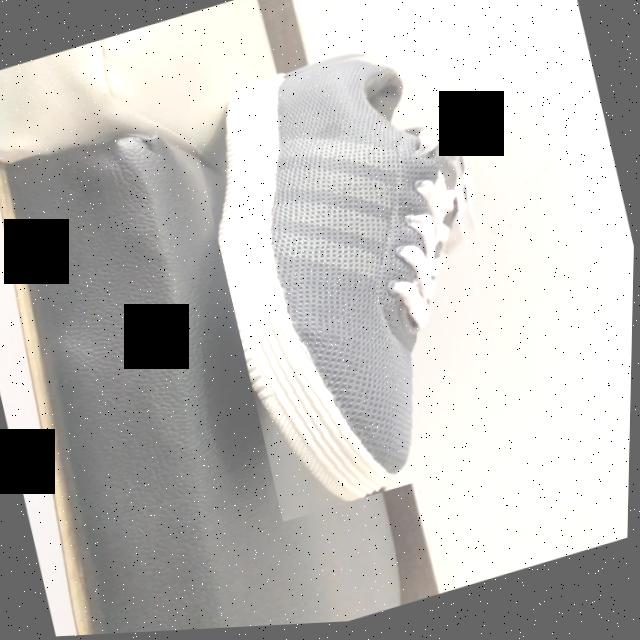shoe: (220, 62, 473, 505)
